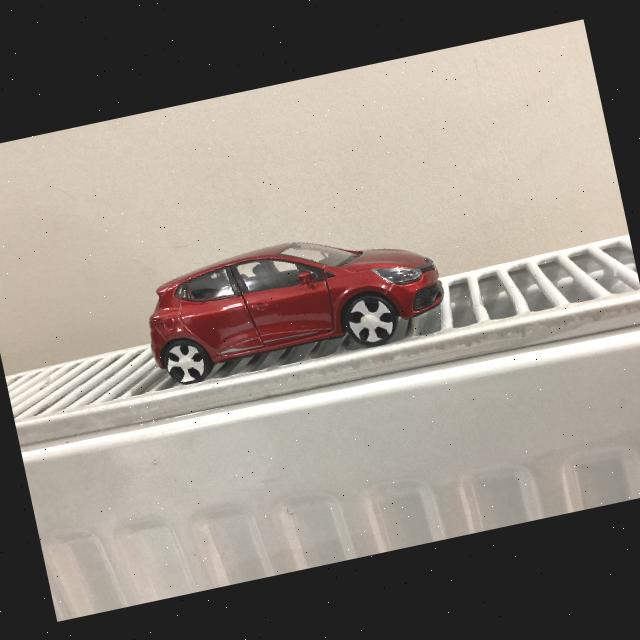Yanlis_Jant: (346, 293, 398, 345), (162, 339, 208, 386)
